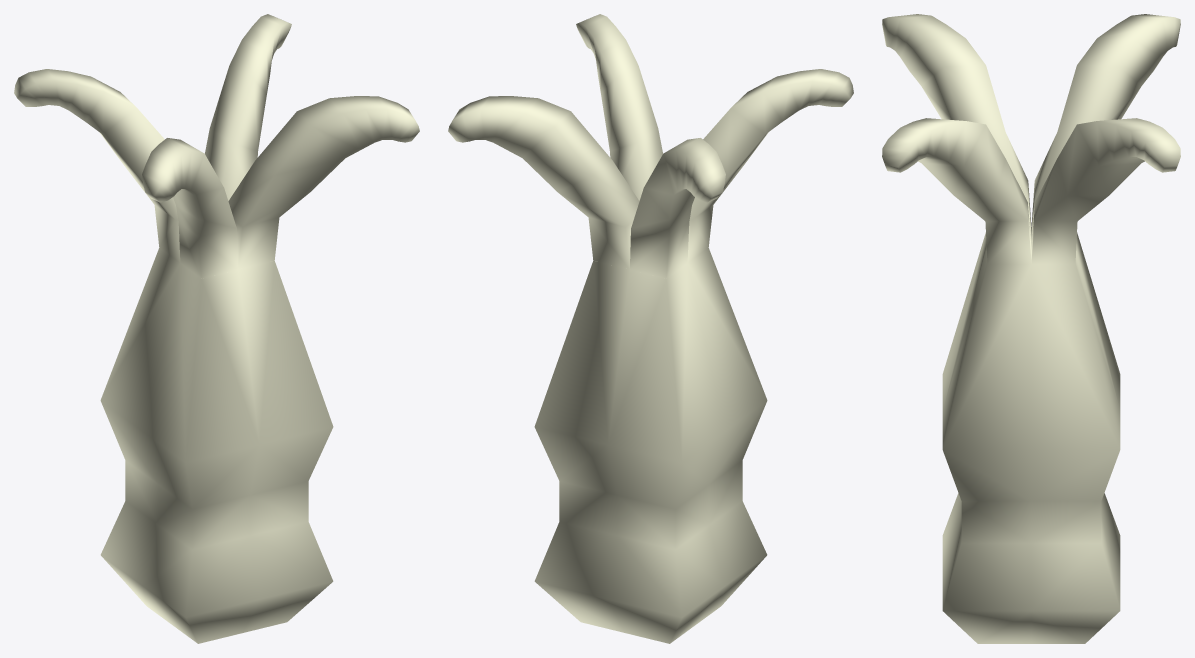
Rendered from hook.fbx.
3 views of the same model, side by side, from view 1: azimuth 30°, elevation 25°; view 2: azimuth 150°, elevation 25°; view 3: azimuth 270°, elevation 25° (orthographic). The views are drawn at different scales.
Parts seen in each view (by area): view 1: Cube.011; view 2: Cube.011; view 3: Cube.011.
Boxes of the visible parts, x1,y1,x2,y2 form: Cube.011: (14,14,419,643); Cube.011: (448,14,853,643); Cube.011: (882,14,1180,643).
Size of the model in its own units: 13.46 by 24.9 by 12.3.
